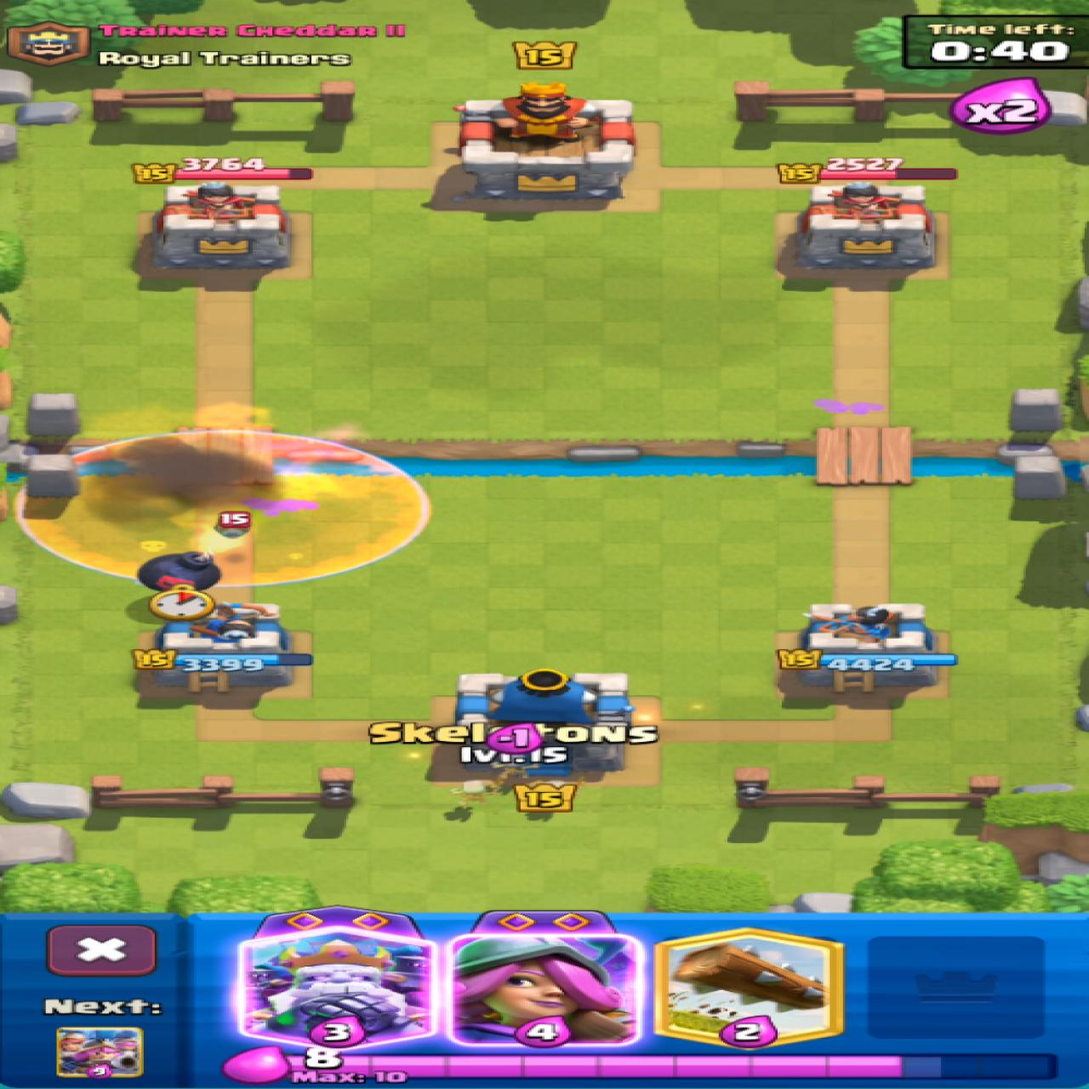Enemy-Balloon-Bomb: (137, 552, 220, 591)
Enemy-Bat: (218, 511, 248, 537)
Enemy-KingTower: (457, 83, 634, 201)
Enemy-PrincessTower: (791, 183, 934, 281), (150, 183, 290, 273)
